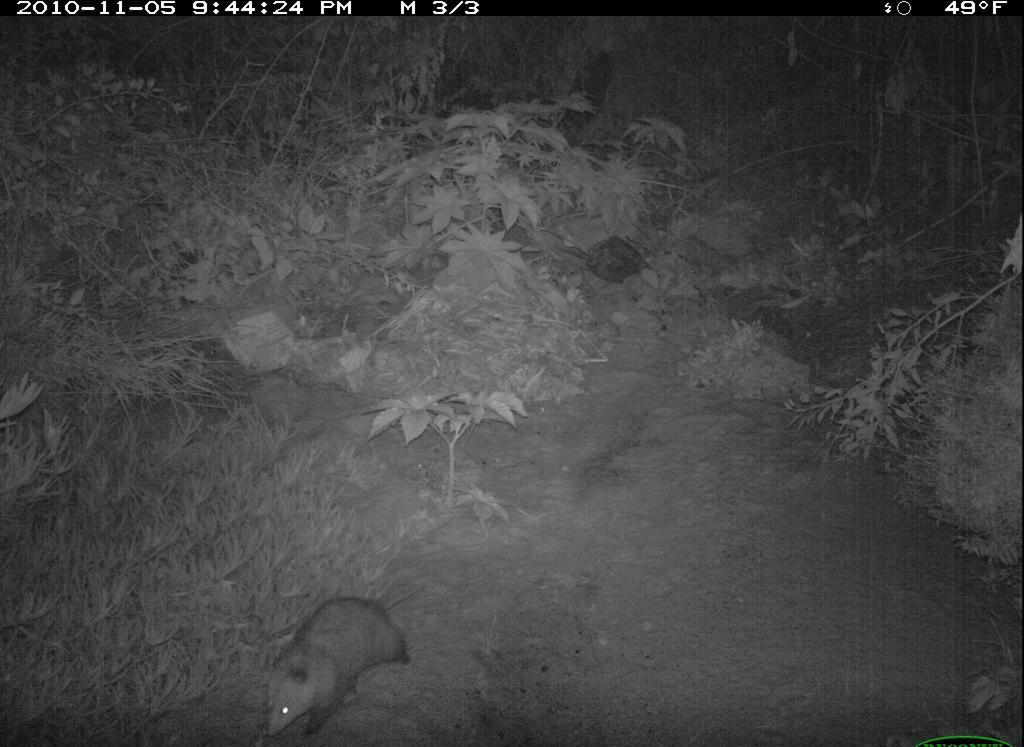opossum: (260, 577, 424, 747)
